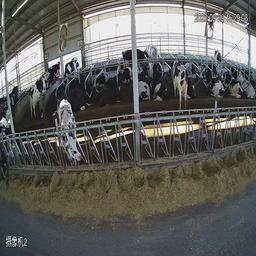cow: (53, 96, 85, 183), (26, 64, 52, 122), (97, 69, 131, 110), (171, 56, 189, 111), (152, 66, 173, 107), (200, 66, 226, 98), (68, 79, 92, 112), (137, 60, 154, 106), (222, 70, 244, 102), (123, 44, 150, 65), (63, 55, 84, 80), (238, 67, 254, 98), (183, 48, 200, 76), (90, 65, 110, 88), (142, 35, 160, 60), (189, 75, 203, 101), (214, 46, 226, 64)
